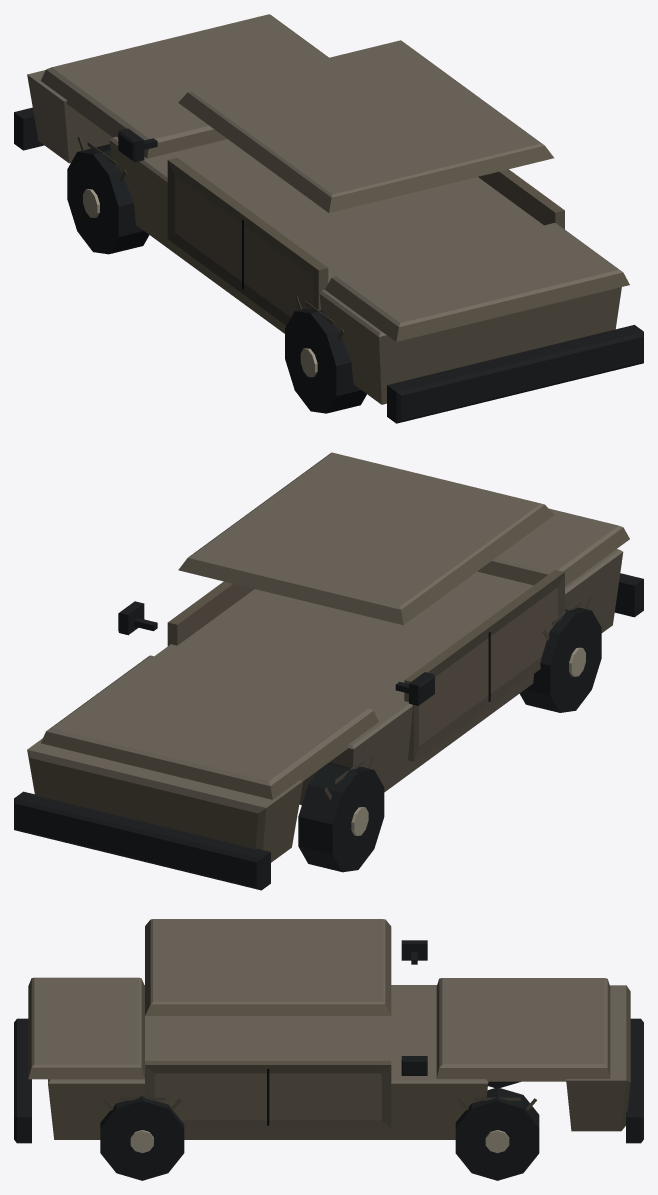
File: lp_player_car_shell.glb
3 views of the same model, one above another, from view 1: azimuth 30°, elevation 25°; view 2: azimuth 150°, elevation 25°; view 3: azimuth 270°, elevation 25° (orthographic). The views are drawn at different scales.
Parts seen in each view (by area): view 1: lp_player_car_shell; view 2: lp_player_car_shell; view 3: lp_player_car_shell.
Part boxes in pixels (x1,y1,x2,y2): lp_player_car_shell: [14, 14, 643, 423]; lp_player_car_shell: [14, 452, 643, 890]; lp_player_car_shell: [14, 919, 643, 1180].
Size of the model in its own units: 2.2 by 1.42 by 4.86.
Materials: 1 (1 with a texture image).
